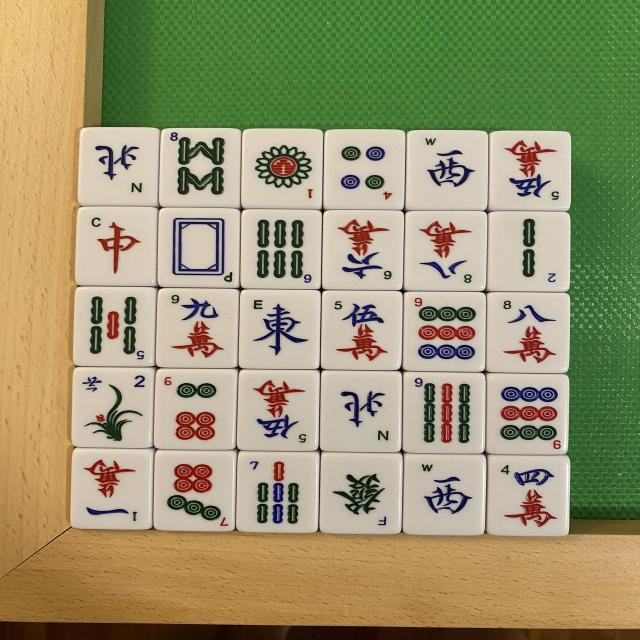bf2: (75, 369, 156, 453)
hdg: (320, 453, 400, 538)
hdr: (78, 208, 158, 288)
hdw: (157, 210, 236, 284)
hwe: (242, 292, 318, 366)
hwn: (320, 373, 400, 456), (81, 130, 160, 208)
hww: (406, 130, 489, 212), (406, 454, 486, 536)
sb2: (494, 214, 567, 288)
sb5: (77, 287, 157, 368)
sb6: (242, 210, 320, 289)
sb7: (237, 448, 317, 530)
sb8: (162, 130, 242, 210)
sb9: (402, 374, 483, 457)
sc1: (74, 451, 154, 528)
sc4: (486, 458, 566, 539)
sc5: (488, 130, 568, 212), (240, 371, 320, 453), (324, 292, 402, 374)
sc6: (323, 212, 403, 294)
sc8: (488, 292, 567, 375), (411, 213, 484, 289)
sc9: (159, 290, 237, 366)
sd1: (242, 130, 324, 212)
sd4: (324, 130, 400, 213)
sd6: (158, 372, 238, 454)
sd7: (150, 448, 232, 528)
sd9: (402, 293, 483, 374), (490, 376, 570, 458)
